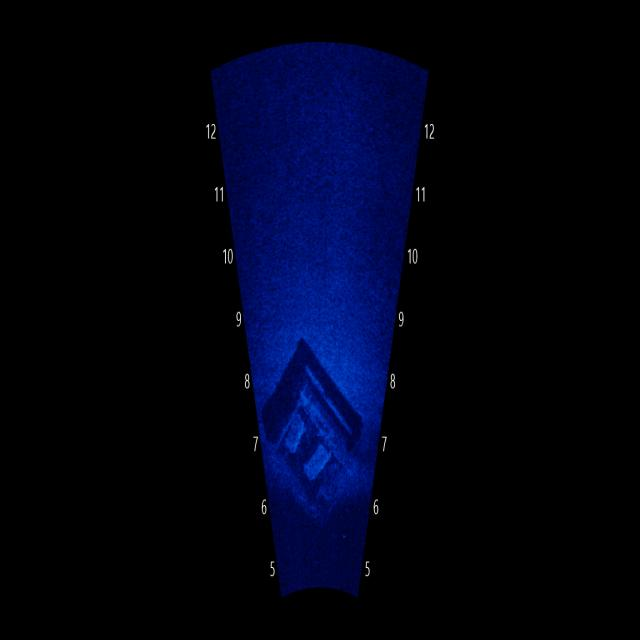square: (258, 331, 370, 536)
